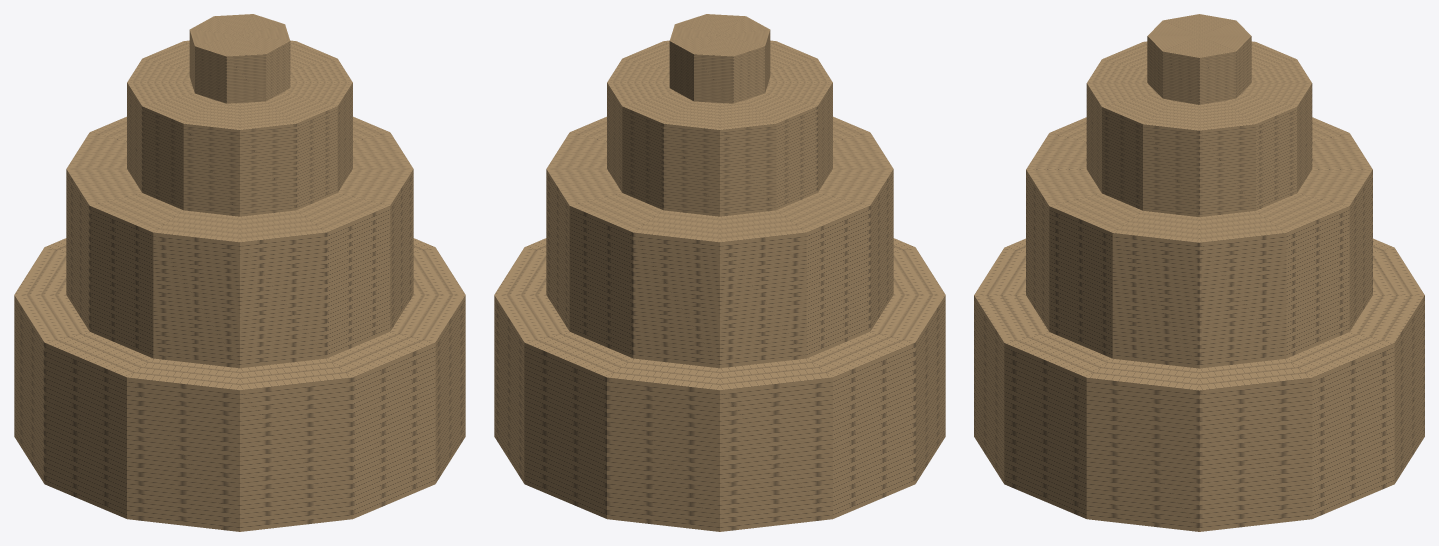
Rendered from granary_dome.obj.
The picture shows the model from 3 angles, left to right: view 1: azimuth 30°, elevation 25°; view 2: azimuth 150°, elevation 25°; view 3: azimuth 270°, elevation 25°; orthographic projection.
Bounding box in the file's own units: 5.2 × 5.1 × 5.2.
Materials: 1 (1 with a texture image).
